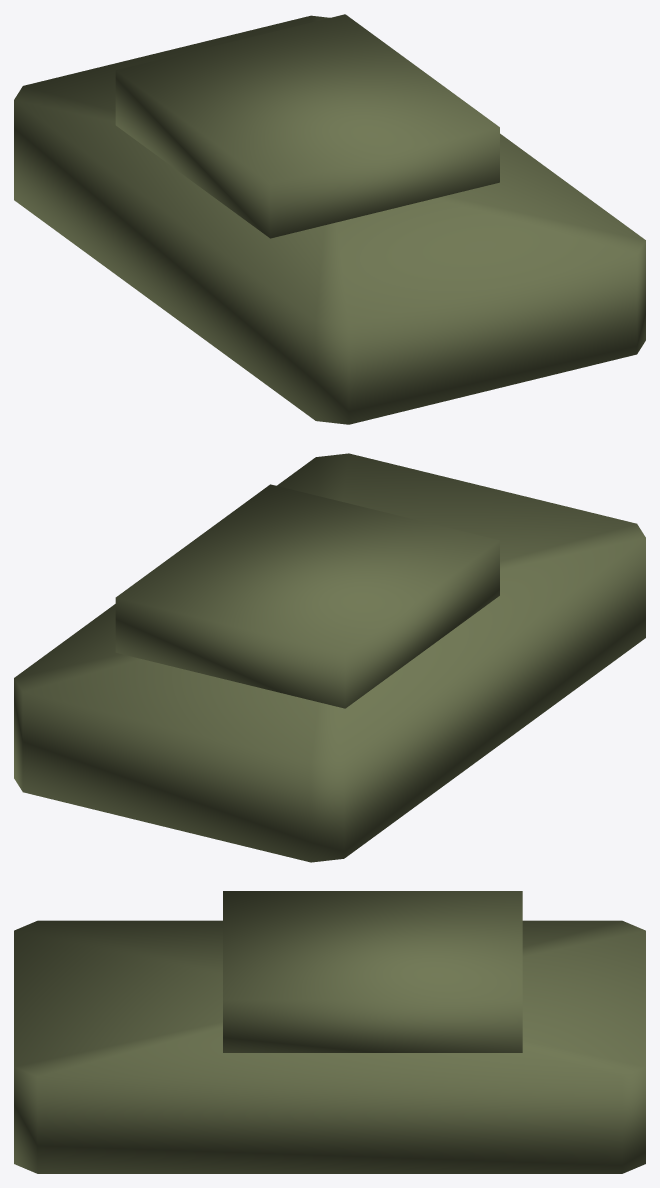
File: apc_lod2.obj
3 renders of one model, top to bottom at view 1: azimuth 30°, elevation 25°; view 2: azimuth 150°, elevation 25°; view 3: azimuth 270°, elevation 25°, orthographic. The views are drawn at different scales.
Parts seen in each view (by area): view 1: apc_lod2; view 2: apc_lod2; view 3: apc_lod2.
Boxes of the visible parts, x1,y1,x2,y2 form: apc_lod2: (14,14,645,424); apc_lod2: (14,453,645,862); apc_lod2: (14,891,645,1173).
Bounding box in the file's own units: 3.45 × 1.55 × 5.9.
